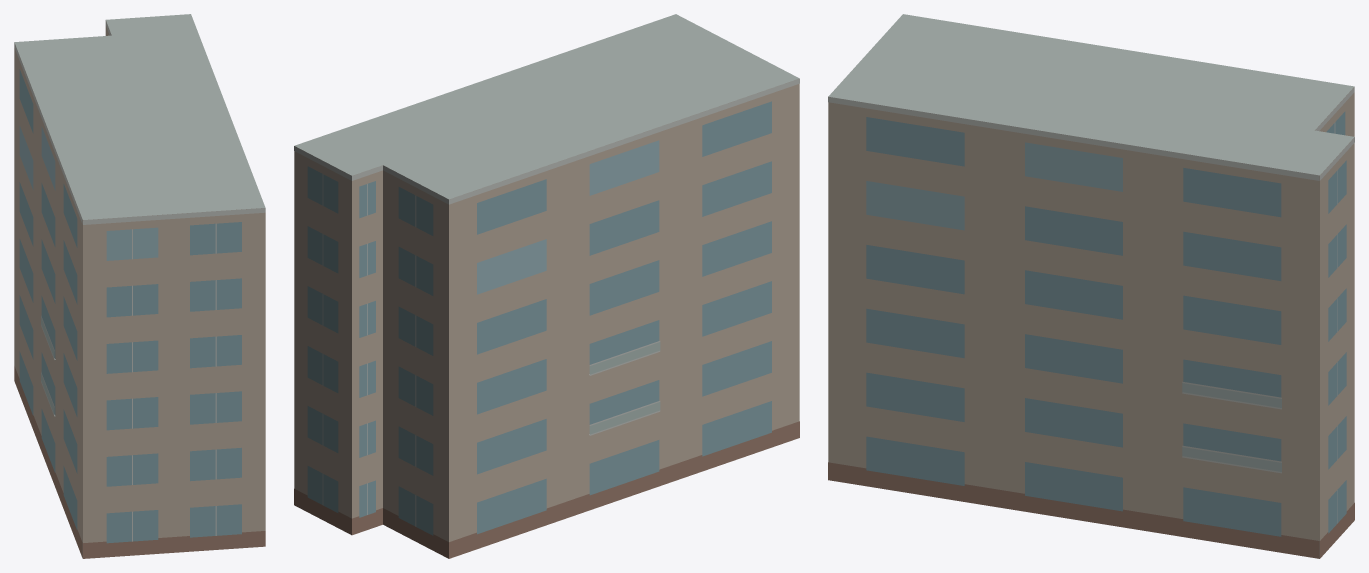
The model's file is survey-upis-33039409.glb.
3 views of the same model, side by side, from view 1: azimuth 30°, elevation 25°; view 2: azimuth 150°, elevation 25°; view 3: azimuth 270°, elevation 25° (orthographic). The views are drawn at different scales.
Visible parts, largest first — view 1: survey-upis-33039409.tmp; view 2: survey-upis-33039409.tmp; view 3: survey-upis-33039409.tmp.
Part boxes in pixels (left/top/right/bottom): survey-upis-33039409.tmp: left=14, top=14, right=265, bottom=558; survey-upis-33039409.tmp: left=294, top=14, right=799, bottom=558; survey-upis-33039409.tmp: left=828, top=14, right=1354, bottom=558.
Size of the model in its own units: 15.18 by 16.8 by 20.92.
